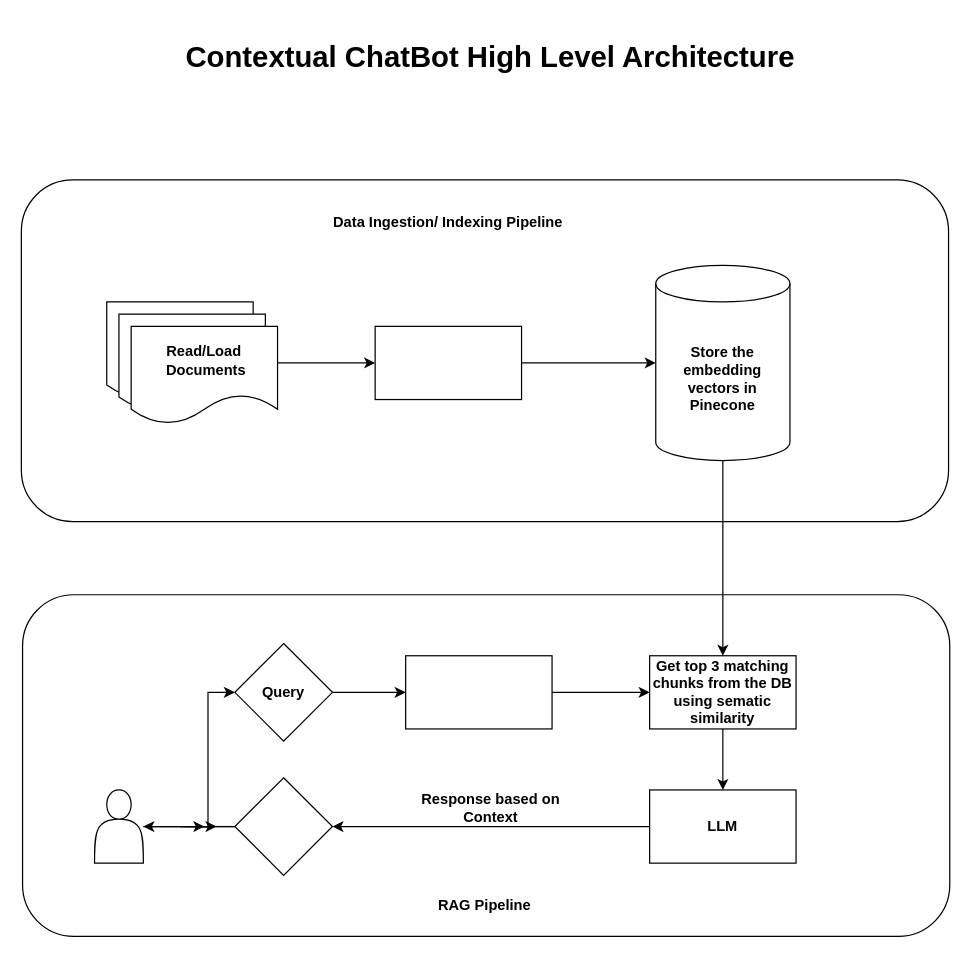
Some shapes in this 971 by 958 pixel diagram are drawn without their labels. Here are the shapes that lost their labels. From the top down, the centre of each, then its label:
At point 448,362: "Split in chunks and Embed".
At point 478,692: "Generate query embeddings".
At point 283,826: "Response".
